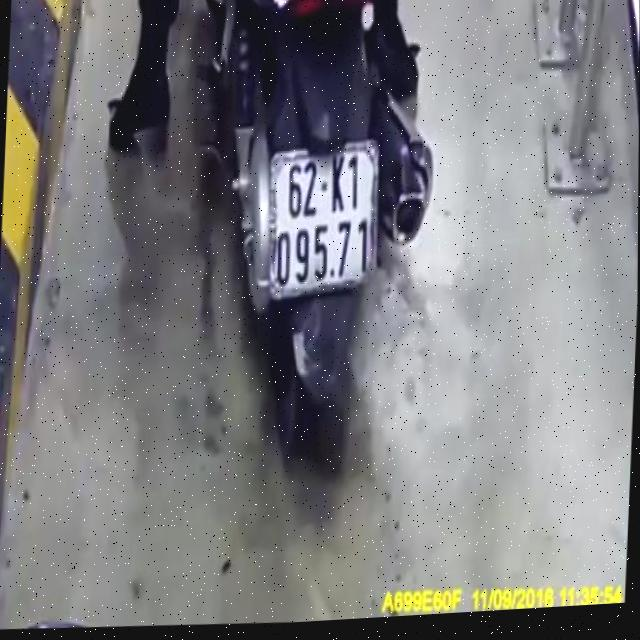motorcycle: (174, 0, 445, 481)
plate: (254, 132, 392, 305)
